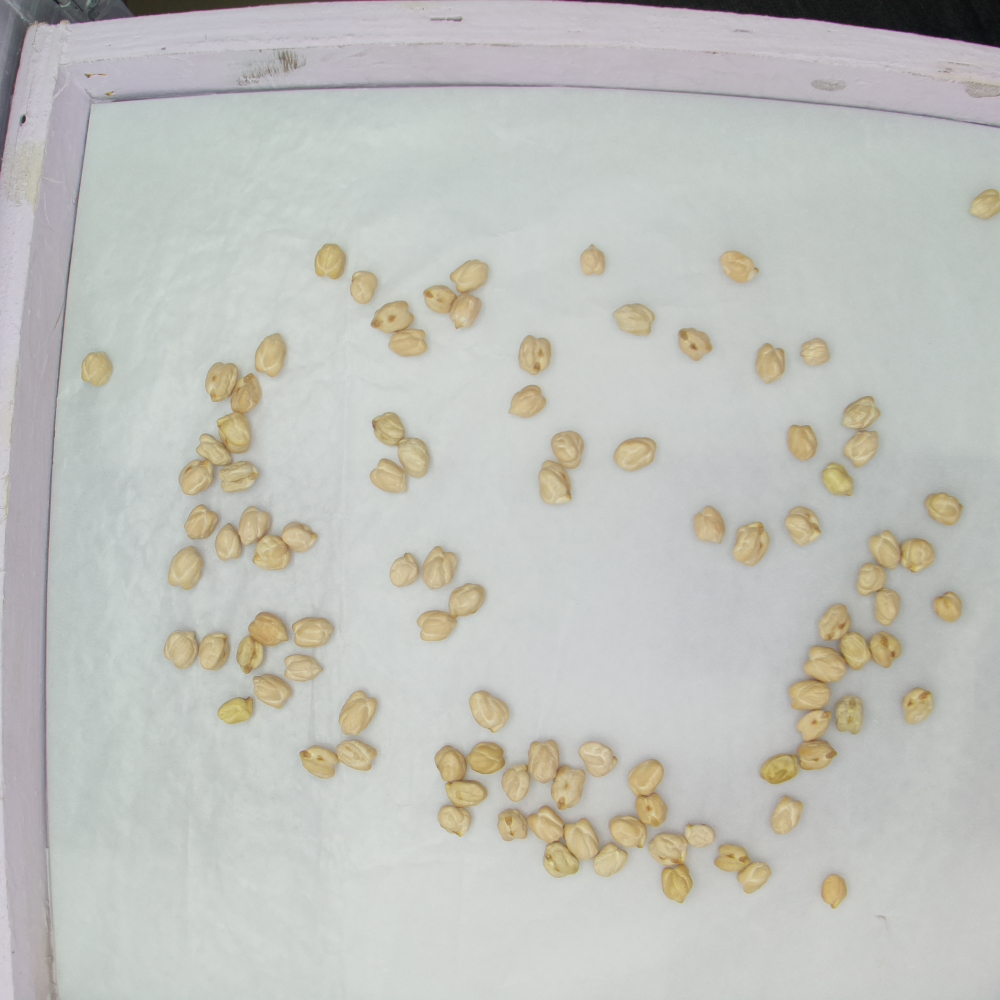chana: (337, 691, 378, 736), (470, 690, 511, 732), (167, 545, 204, 590), (732, 521, 769, 565), (805, 646, 847, 683), (785, 506, 822, 547), (423, 547, 459, 589), (252, 333, 286, 377), (540, 460, 574, 504), (217, 413, 253, 453), (614, 437, 657, 470), (553, 766, 586, 809), (527, 806, 565, 843), (252, 674, 294, 707), (293, 616, 334, 649), (843, 396, 880, 432), (580, 742, 618, 777), (565, 819, 600, 857), (164, 630, 198, 669), (207, 361, 240, 401), (249, 612, 289, 645), (529, 740, 559, 784), (649, 832, 689, 865), (254, 535, 291, 570), (370, 458, 407, 493), (451, 258, 488, 293), (299, 745, 338, 778), (615, 305, 656, 336), (179, 460, 214, 496), (629, 759, 664, 795), (238, 507, 272, 544), (900, 539, 937, 573), (220, 461, 259, 493), (449, 584, 488, 616), (398, 438, 430, 477), (520, 335, 552, 374), (772, 796, 804, 835), (760, 753, 799, 785), (337, 739, 377, 770), (790, 681, 834, 709), (417, 611, 458, 641), (184, 505, 219, 540), (544, 842, 579, 877), (510, 385, 547, 418), (610, 815, 647, 848), (819, 603, 852, 640), (372, 302, 414, 331), (230, 374, 262, 412), (198, 631, 230, 669), (694, 506, 726, 544), (722, 253, 761, 284), (846, 429, 879, 465), (552, 431, 584, 468), (662, 867, 694, 904), (870, 630, 902, 667), (787, 424, 818, 462), (870, 530, 901, 568), (757, 344, 786, 384), (372, 412, 406, 446), (594, 843, 628, 877), (679, 328, 713, 362), (198, 434, 234, 466), (435, 746, 467, 782), (902, 687, 934, 723), (840, 632, 871, 669), (737, 862, 772, 894), (797, 710, 832, 742), (927, 493, 962, 525), (469, 742, 505, 773), (451, 292, 481, 328), (799, 741, 835, 771), (445, 781, 488, 806), (285, 654, 323, 682), (636, 794, 668, 827), (389, 553, 420, 587), (236, 635, 263, 674), (282, 521, 317, 551), (835, 697, 864, 733), (389, 330, 427, 357), (502, 764, 529, 802), (438, 806, 472, 836), (315, 244, 345, 278), (215, 523, 243, 559), (218, 696, 254, 724), (716, 844, 752, 872), (498, 809, 529, 841), (82, 352, 112, 385), (823, 462, 853, 495), (424, 285, 457, 314), (875, 589, 901, 625), (857, 564, 886, 595), (971, 189, 1000, 219), (802, 337, 831, 366), (352, 271, 377, 304), (934, 592, 963, 620), (822, 876, 847, 908), (580, 244, 606, 274), (685, 823, 716, 846)
